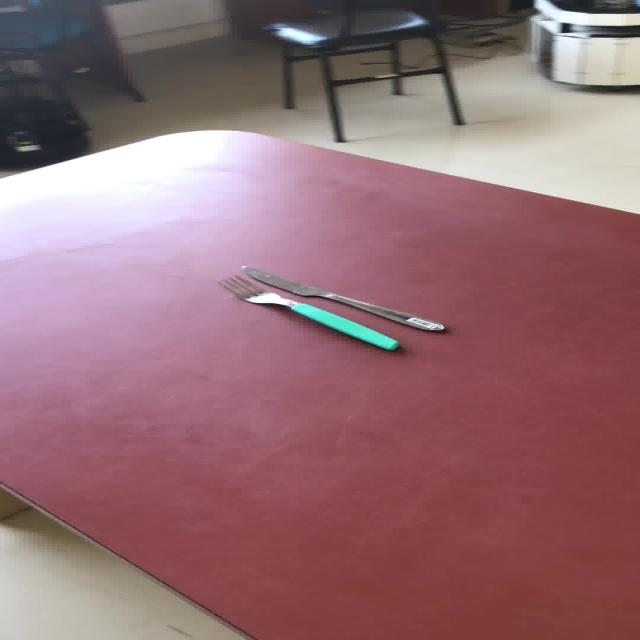fork: (216, 274, 399, 351)
knife fork: (238, 264, 445, 332)
